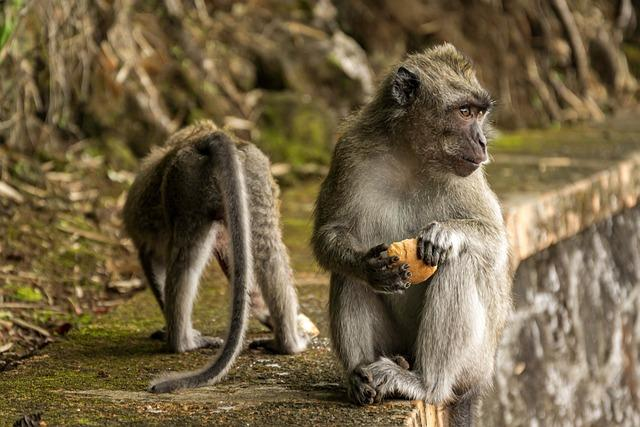Non_Gorille: (101, 40, 574, 427)
